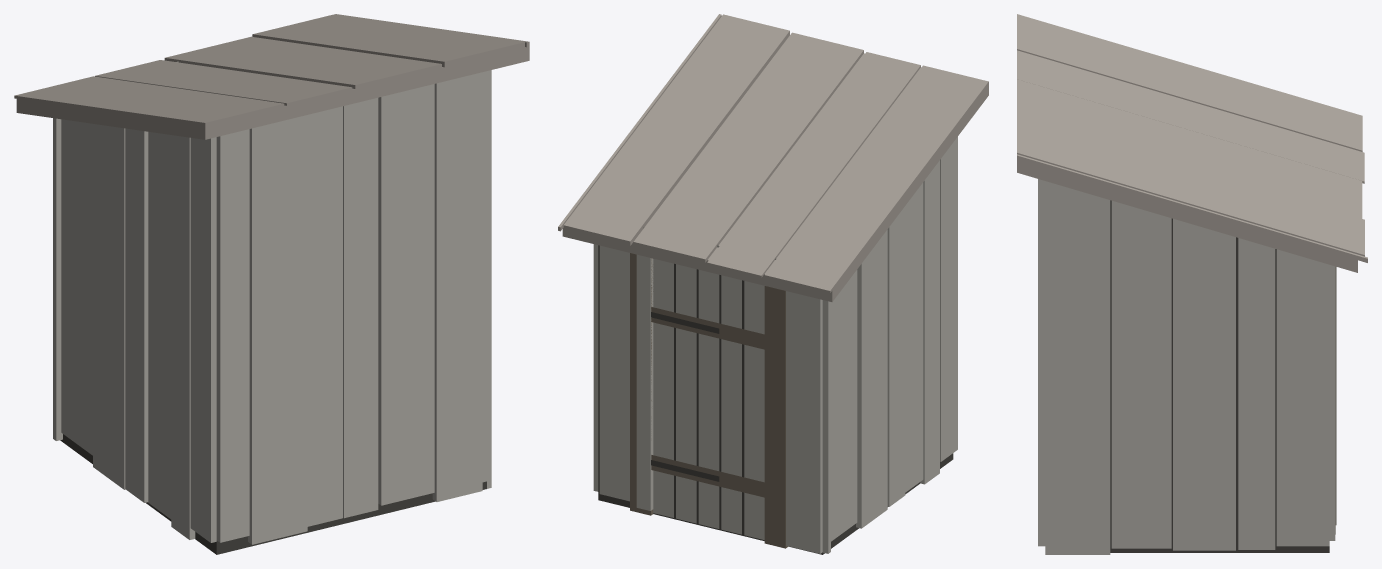
The model's file is recon_1835_blk_randolph_clark_a3_08__inferred_1835.glb.
3 renders of one model, left to right at view 1: azimuth 30°, elevation 25°; view 2: azimuth 150°, elevation 25°; view 3: azimuth 270°, elevation 25°, orthographic. The views are drawn at different scales.
Visible parts, largest first — view 1: recon_1835_blk_randolph_clark_a3_08__inferred_1835; view 2: recon_1835_blk_randolph_clark_a3_08__inferred_1835; view 3: recon_1835_blk_randolph_clark_a3_08__inferred_1835.
Part boxes in pixels (<box>): recon_1835_blk_randolph_clark_a3_08__inferred_1835: <box>14,14,529,554</box>; recon_1835_blk_randolph_clark_a3_08__inferred_1835: <box>558,14,988,554</box>; recon_1835_blk_randolph_clark_a3_08__inferred_1835: <box>1017,14,1367,554</box>.
Size of the model in its own units: 2.04 by 2.72 by 2.11.
